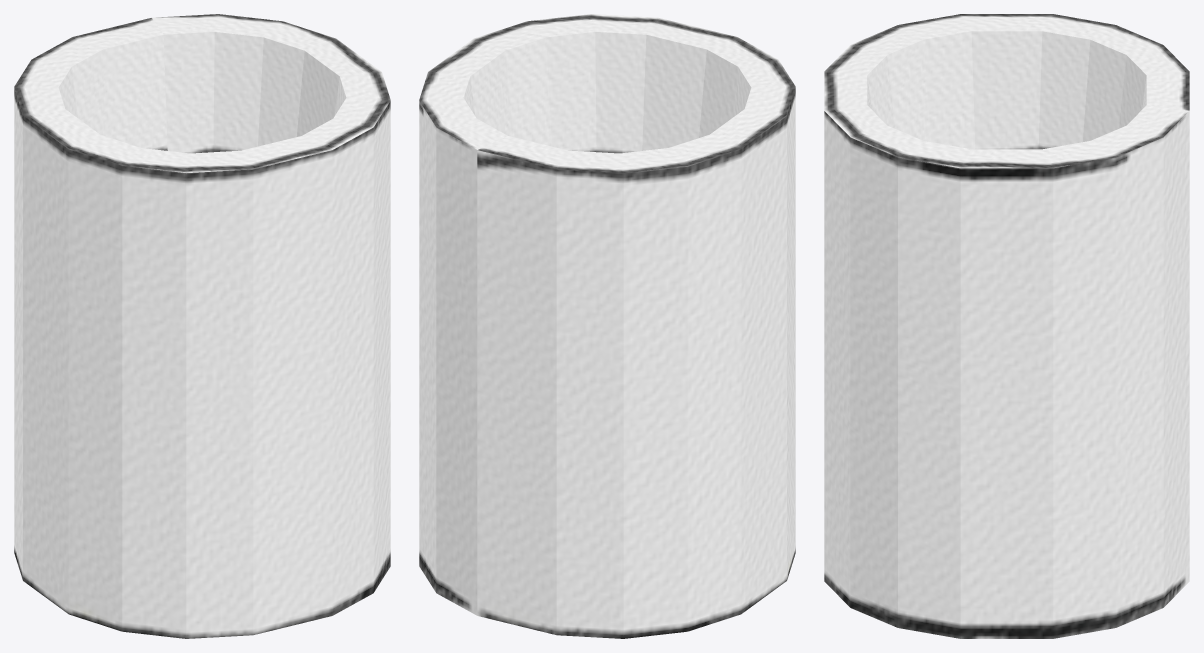
File: detail_glass.glb
3 views of the same model, side by side, from view 1: azimuth 30°, elevation 25°; view 2: azimuth 150°, elevation 25°; view 3: azimuth 270°, elevation 25° (orthographic).
Parts seen in each view (by area): view 1: Glas; view 2: Glas; view 3: Glas.
Part boxes in pixels (left/top/right/bottom): Glas: left=14, top=14, right=390, bottom=638; Glas: left=419, top=14, right=795, bottom=638; Glas: left=824, top=14, right=1189, bottom=638.
Size of the model in its own units: 0.00761 by 0.0108 by 0.00761.
Materials: 1 (1 with a texture image).
